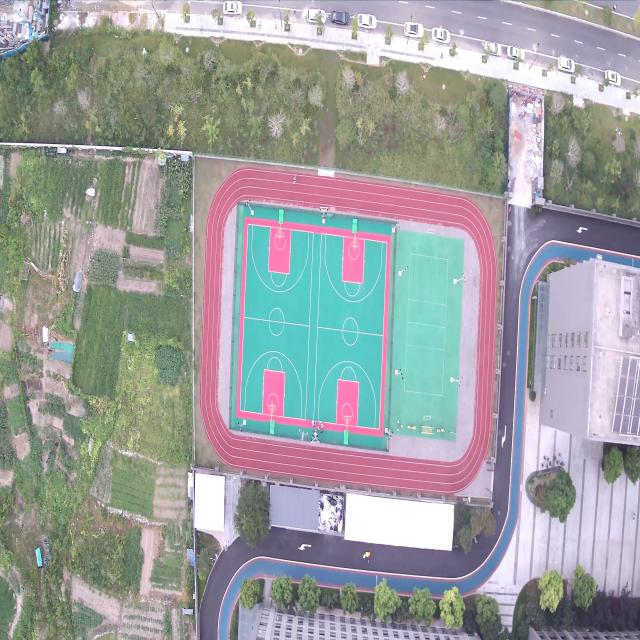drone: (298, 428, 308, 444)
